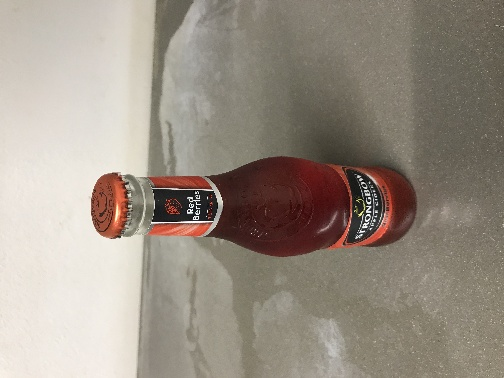SRB: (64, 123, 165, 173), (228, 121, 286, 179)
